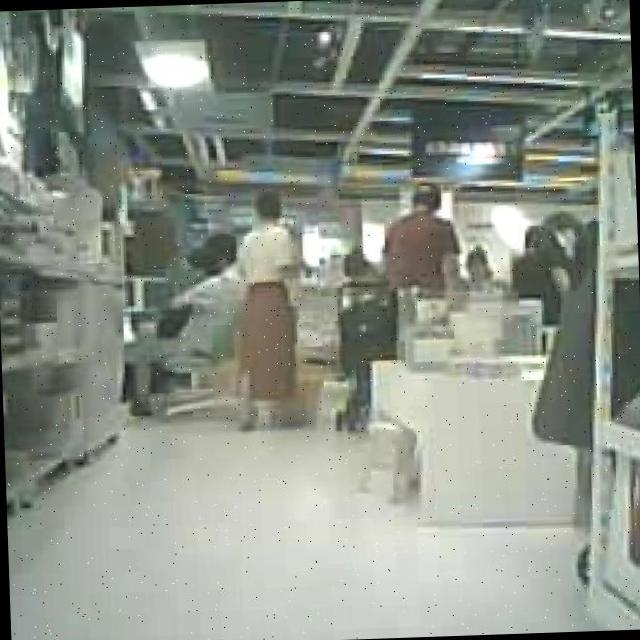person: (112, 228, 245, 397), (226, 190, 307, 432), (378, 181, 465, 302), (458, 247, 505, 294)
